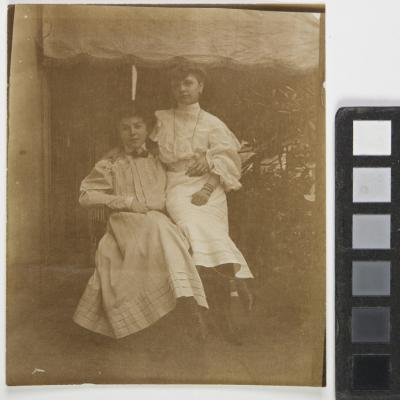photos_negatives: (4, 4, 327, 386)
